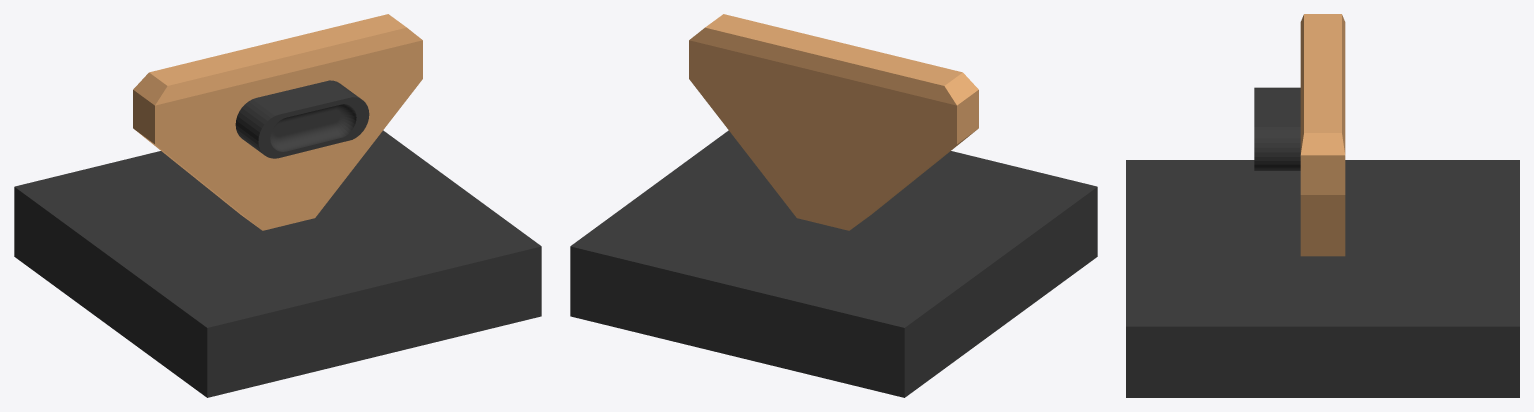
Rendered from Flamethrower Tower.fbx.
3 renders of one model, left to right at view 1: azimuth 30°, elevation 25°; view 2: azimuth 150°, elevation 25°; view 3: azimuth 270°, elevation 25°, orthographic.
Parts seen in each view (by area): view 1: Tower Base, Cube, Cylinder; view 2: Tower Base, Cube; view 3: Tower Base, Cube, Cylinder.
Part boxes in pixels (left/top/right/bottom): Tower Base: left=14, top=130, right=541, bottom=397; Cube: left=133, top=14, right=422, bottom=230; Cylinder: left=235, top=80, right=369, bottom=158; Tower Base: left=570, top=130, right=1097, bottom=397; Cube: left=689, top=14, right=978, bottom=230; Tower Base: left=1126, top=160, right=1519, bottom=397; Cube: left=1300, top=14, right=1345, bottom=256; Cylinder: left=1254, top=87, right=1300, bottom=170.
Size of the model in its own units: 100 by 67.57 by 100.
